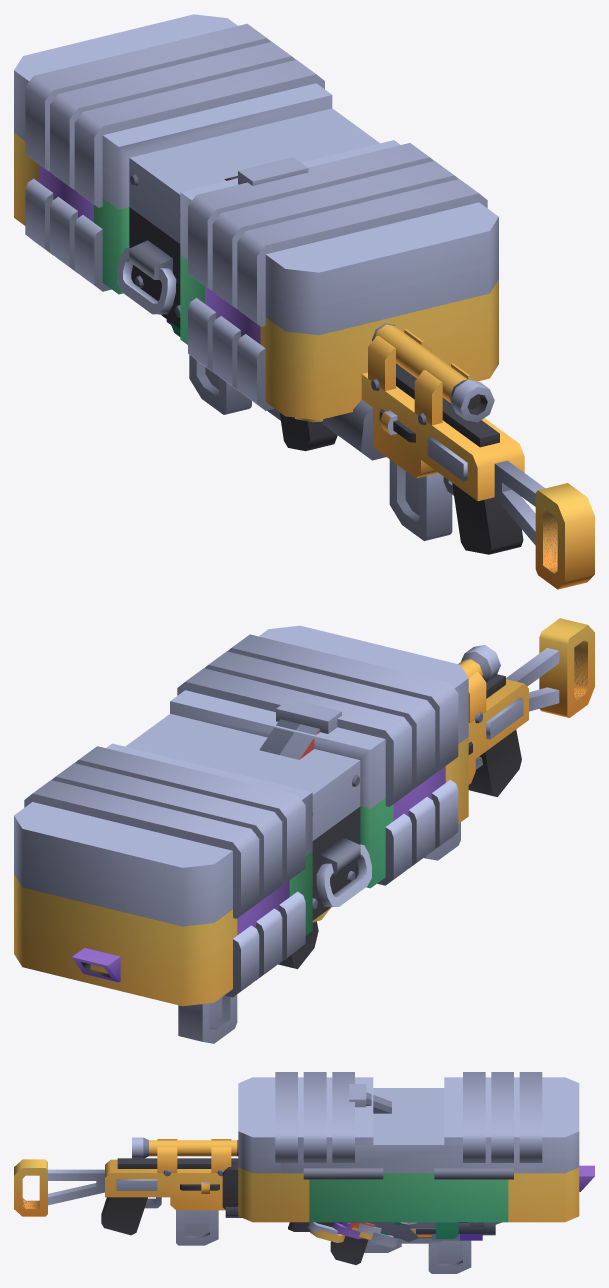
The model's file is blasters.glb.
3 renders of one model, top to bottom at view 1: azimuth 30°, elevation 25°; view 2: azimuth 150°, elevation 25°; view 3: azimuth 270°, elevation 25°, orthographic. The views are drawn at different scales.
Visible parts, largest first — view 1: lid (×3), blaster-e, crate-wide, crate-small, crate-medium, scope, magazine (×2), blaster-a, target-detail; view 2: lid (×3), crate-wide, blaster-e, crate-small, crate-medium, target-detail, magazine, scope, blaster-f, blaster-a; view 3: lid (×3), crate-small, blaster-e, crate-wide, magazine (×3), scope, blaster-f, blaster-a, crate-medium, blaster-q, target-detail, blaster-o (+2 smaller).
Boxes of the visible parts, <box> form: lid (×3): <box>14,14,498,335</box>; blaster-e: <box>322,363,594,589</box>; crate-wide: <box>14,133,498,420</box>; crate-small: <box>74,198,216,374</box>; crate-medium: <box>38,164,260,392</box>; scope: <box>368,323,494,425</box>; magazine (×2): <box>189,355,452,541</box>; blaster-a: <box>279,412,337,451</box>; target-detail: <box>224,157,308,185</box>; lid (×3): <box>14,625,468,926</box>; crate-wide: <box>14,737,468,1006</box>; blaster-e: <box>468,618,594,796</box>; crate-small: <box>279,798,411,963</box>; crate-medium: <box>237,766,445,980</box>; target-detail: <box>259,698,341,759</box>; magazine: <box>178,994,237,1043</box>; scope: <box>458,645,500,723</box>; blaster-f: <box>72,948,120,982</box>; blaster-a: <box>278,921,318,969</box>; lid (×3): <box>238,1072,579,1173</box>; crate-small: <box>309,1168,508,1222</box>; blaster-e: <box>14,1158,241,1235</box>; crate-wide: <box>238,1167,579,1222</box>; magazine (×3): <box>176,1210,471,1273</box>; scope: <box>132,1137,238,1176</box>; blaster-f: <box>222,1161,594,1231</box>; blaster-a: <box>330,1222,483,1264</box>; crate-medium: <box>303,1168,513,1179</box>; blaster-q: <box>308,1222,501,1235</box>; target-detail: <box>349,1084,391,1113</box>; blaster-o: <box>357,1222,458,1238</box>.
Size of the model in its own units: 0.5495 by 0.663 by 2.05.
1 material, 1 textured.
